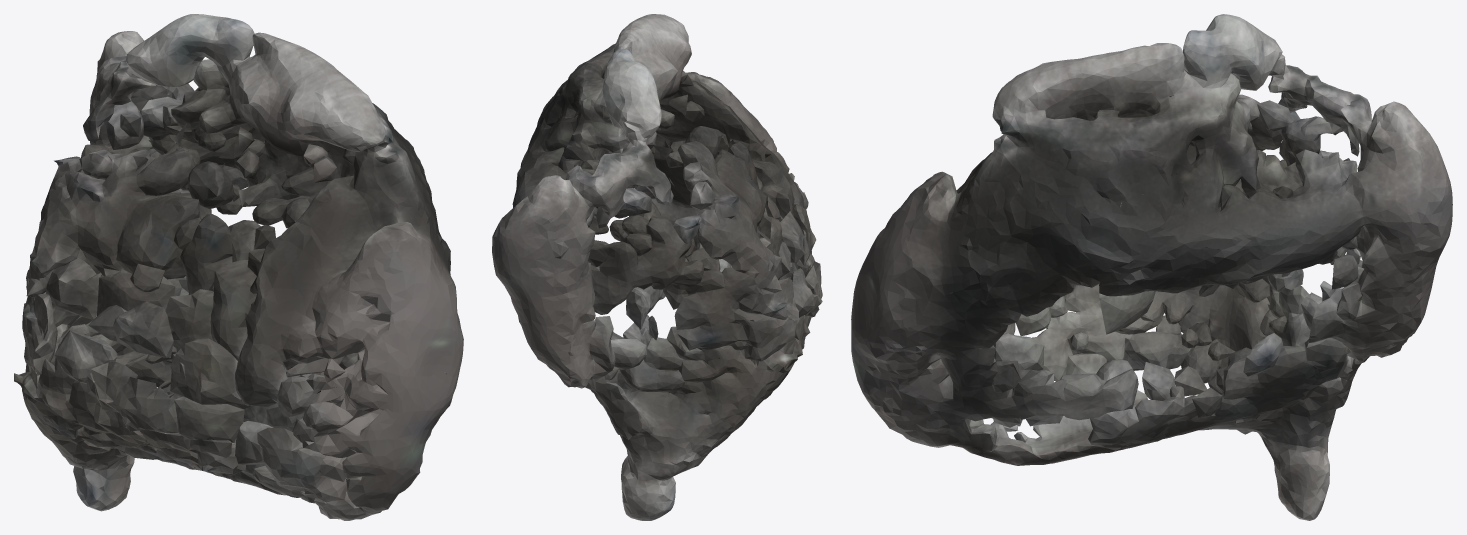
The model's file is IMG_SEG_37.glb.
3 renders of one model, left to right at view 1: azimuth 30°, elevation 25°; view 2: azimuth 150°, elevation 25°; view 3: azimuth 270°, elevation 25°, orthographic. The views are drawn at different scales.
Size of the model in its own units: 1.13 by 1.59 by 1.65.
1 material, 1 textured.
